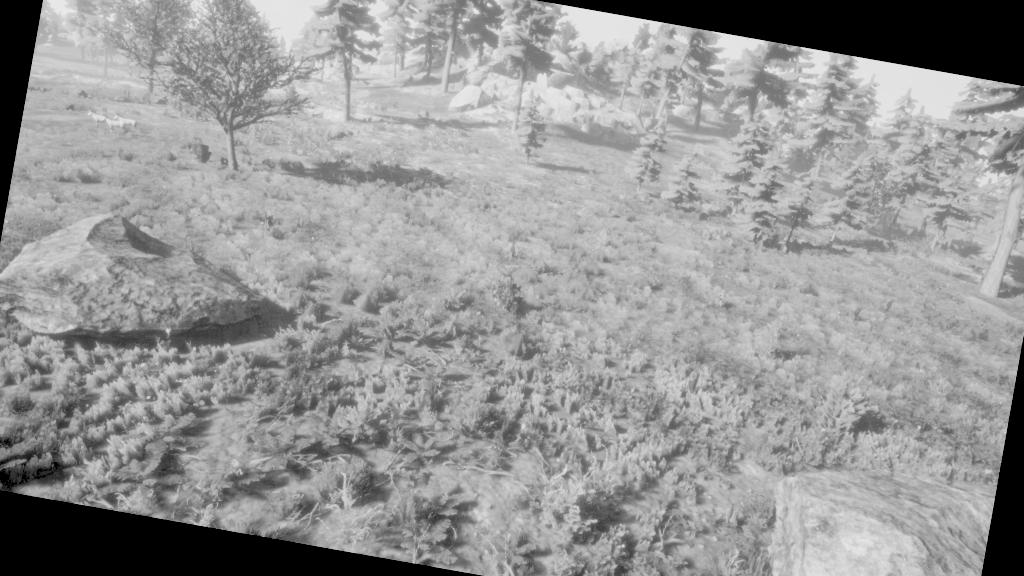zebra: (96, 111, 131, 137), (109, 111, 143, 136), (82, 107, 114, 132)
